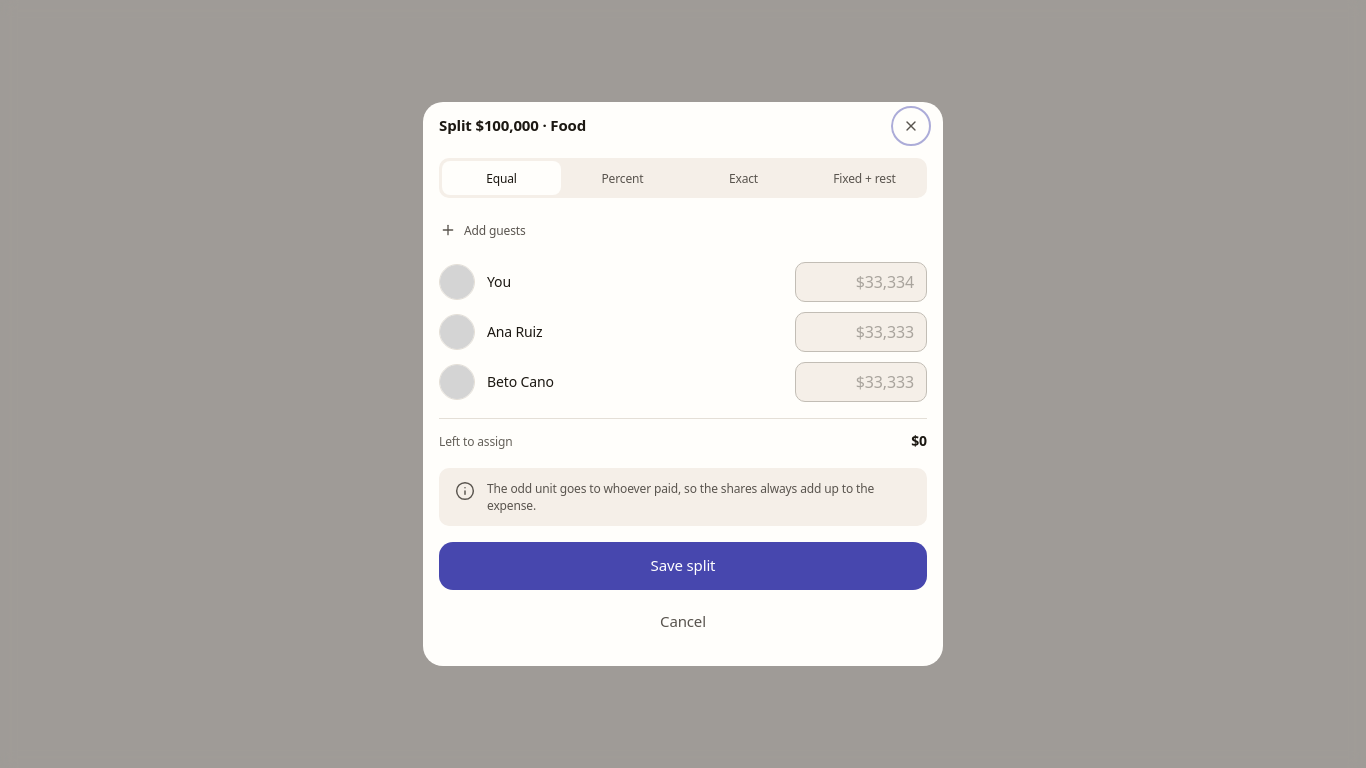
Scenario: SplitSheet › will not save an exact split that does not add up, and says which way it is wrong
Click the button "Exact": {"x": 744, "y": 178} top-left (684, 161), bottom-right (803, 195)
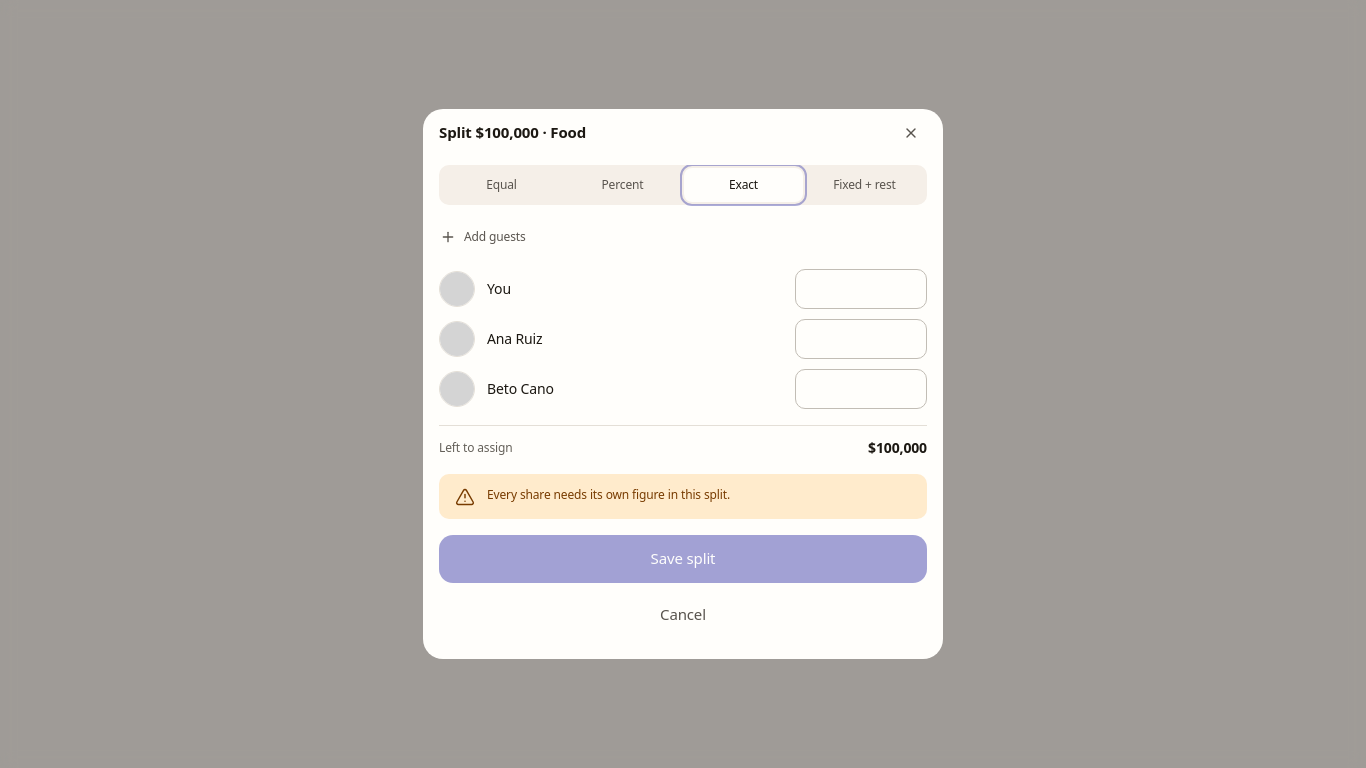
In the field named "What You pays": {"x": 861, "y": 289} top-left (795, 269), bottom-right (927, 309), type "60000"
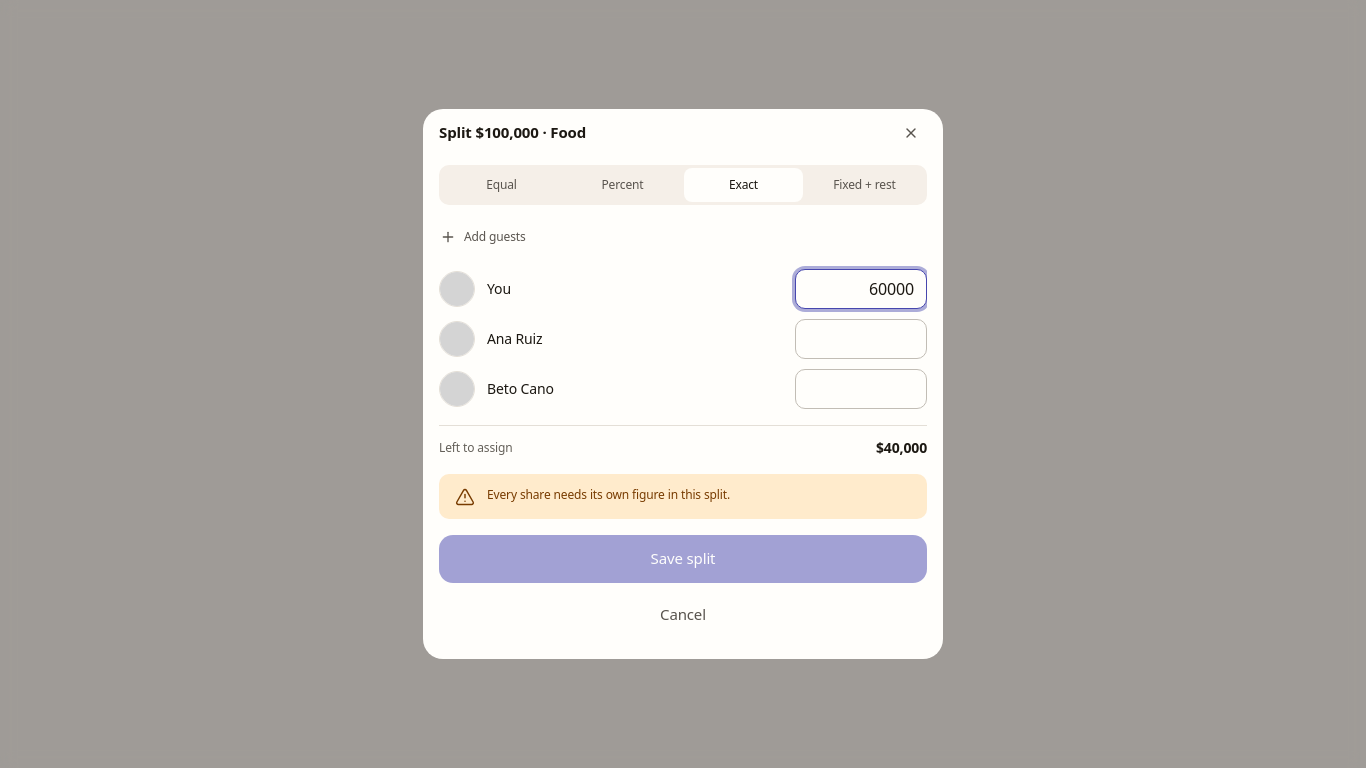
In the field named "What Ana Ruiz pays": {"x": 861, "y": 339} top-left (795, 319), bottom-right (927, 359), type "20000"
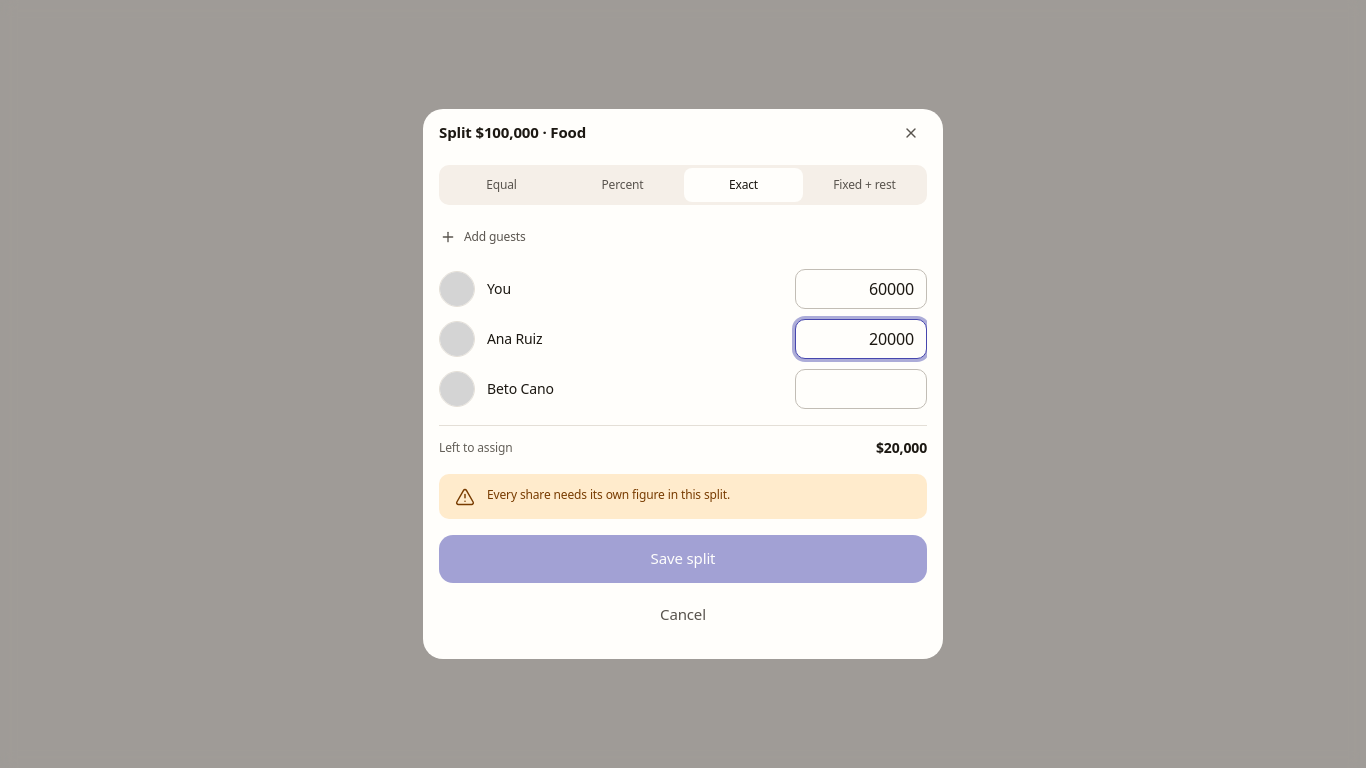
In the field named "What Beto Cano pays": {"x": 861, "y": 389} top-left (795, 369), bottom-right (927, 409), type "30000"
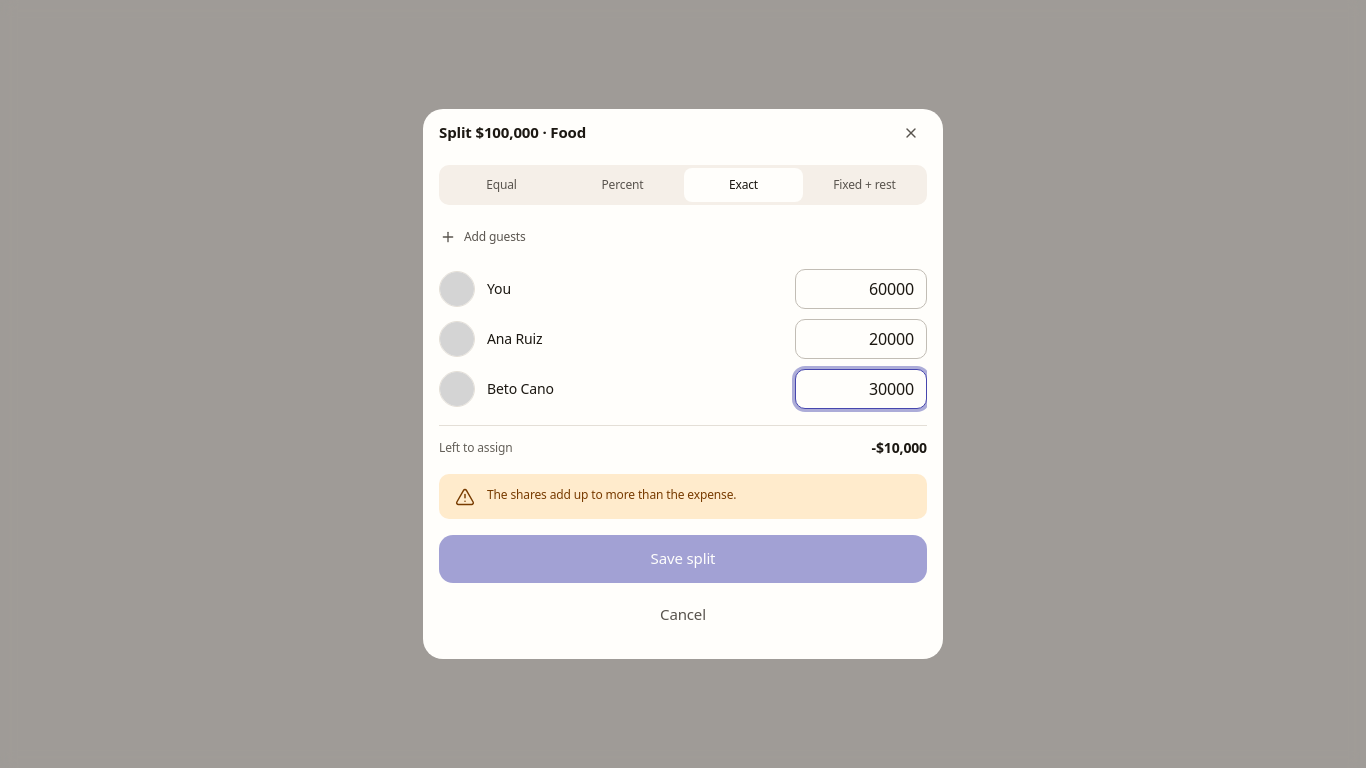
Now the 2nd button named "Save split" is disabled, box top-left (439, 535), bottom-right (927, 583)
Now the text "The shares add up to more than the expense." is shown, box top-left (487, 486), bottom-right (736, 503)
